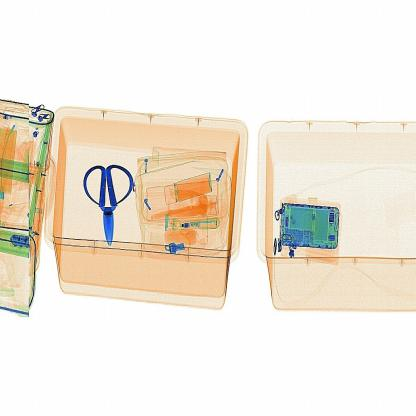gun: (76, 148, 148, 255)
